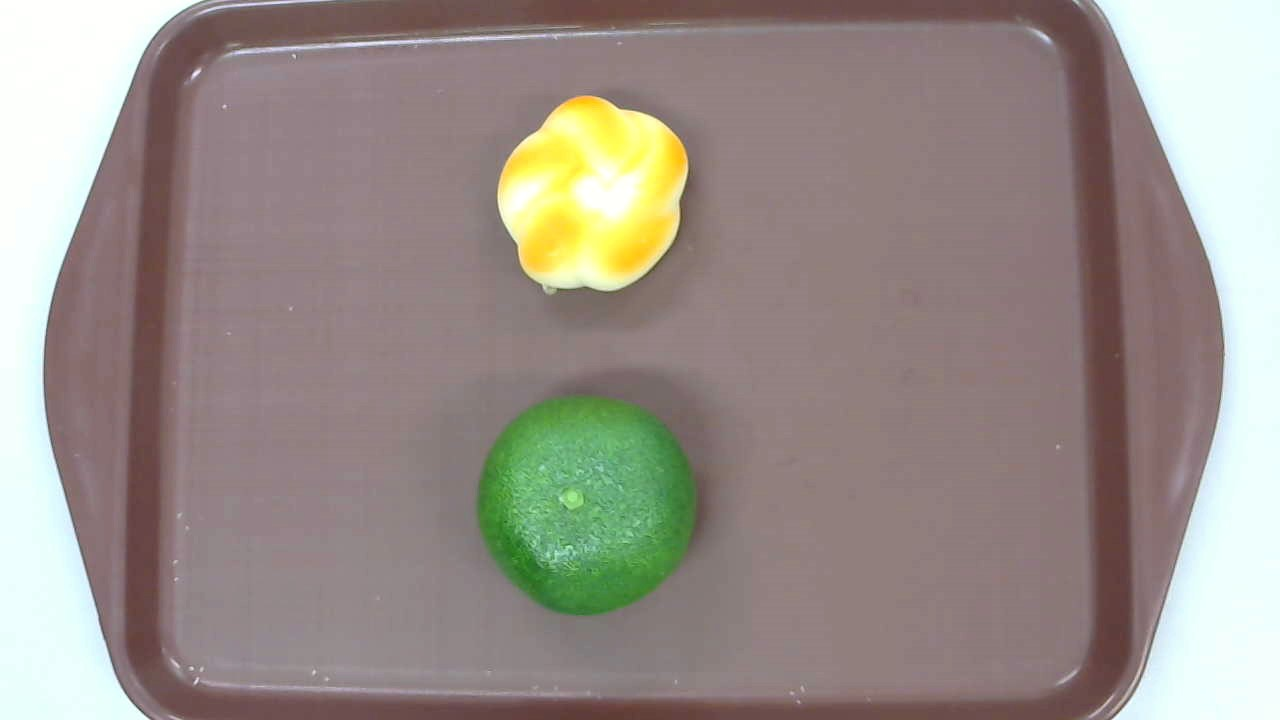green orange: (476, 395, 697, 616)
twist bread: (496, 94, 690, 295)
